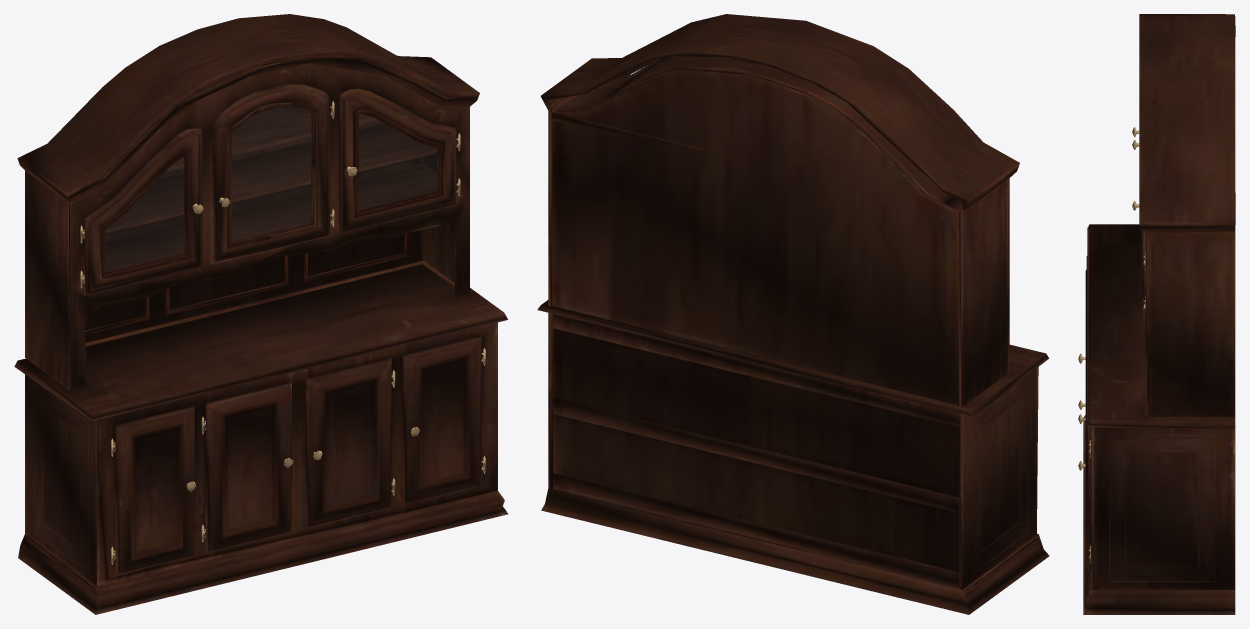
File: vintage_cabinet_01.glb
3 renders of one model, left to right at view 1: azimuth 30°, elevation 25°; view 2: azimuth 150°, elevation 25°; view 3: azimuth 270°, elevation 25°, orthographic. The views are drawn at different scales.
Parts seen in each view (by area): view 1: vintage_cabinet_01_body, vintage_cabinet_01_door_03, vintage_cabinet_01_door_04, vintage_cabinet_01_door_01, vintage_cabinet_01_door_07, vintage_cabinet_01_door_06, vintage_cabinet_01_door_02, vintage_cabinet_01_door_05; view 2: vintage_cabinet_01_body; view 3: vintage_cabinet_01_body, vintage_cabinet_01_door_02, vintage_cabinet_01_door_04.
Part boxes in pixels (bbox=[...]): vintage_cabinet_01_body: bbox=[14, 14, 508, 614]; vintage_cabinet_01_door_03: bbox=[210, 84, 332, 264]; vintage_cabinet_01_door_04: bbox=[338, 88, 458, 233]; vintage_cabinet_01_door_01: bbox=[83, 128, 203, 295]; vintage_cabinet_01_door_07: bbox=[305, 357, 393, 528]; vintage_cabinet_01_door_06: bbox=[204, 382, 293, 553]; vintage_cabinet_01_door_02: bbox=[402, 336, 483, 505]; vintage_cabinet_01_door_05: bbox=[114, 406, 195, 575]; vintage_cabinet_01_body: bbox=[537, 14, 1049, 614]; vintage_cabinet_01_body: bbox=[1083, 14, 1235, 614]; vintage_cabinet_01_door_02: bbox=[1078, 393, 1090, 572]; vintage_cabinet_01_door_04: bbox=[1132, 201, 1145, 319].
Bounding box in the file's own units: 2.02 × 2.23 × 0.6698.
Materials: 3 (2 with a texture image).
